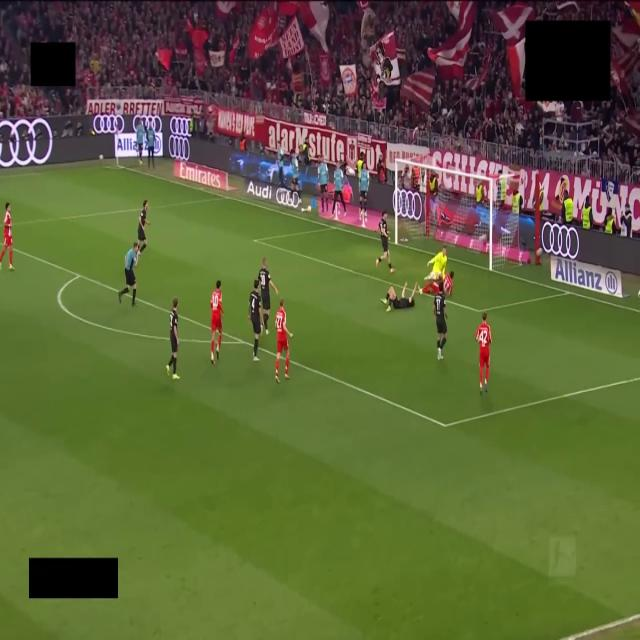player: (258, 258, 278, 335), (275, 299, 292, 383), (476, 313, 491, 393), (376, 211, 394, 273), (166, 298, 179, 380), (433, 283, 447, 359), (249, 280, 262, 361), (381, 282, 417, 311), (211, 280, 223, 364), (0, 202, 13, 270), (425, 248, 447, 280), (138, 200, 149, 253), (421, 281, 439, 295)
referee: (119, 242, 138, 306)
